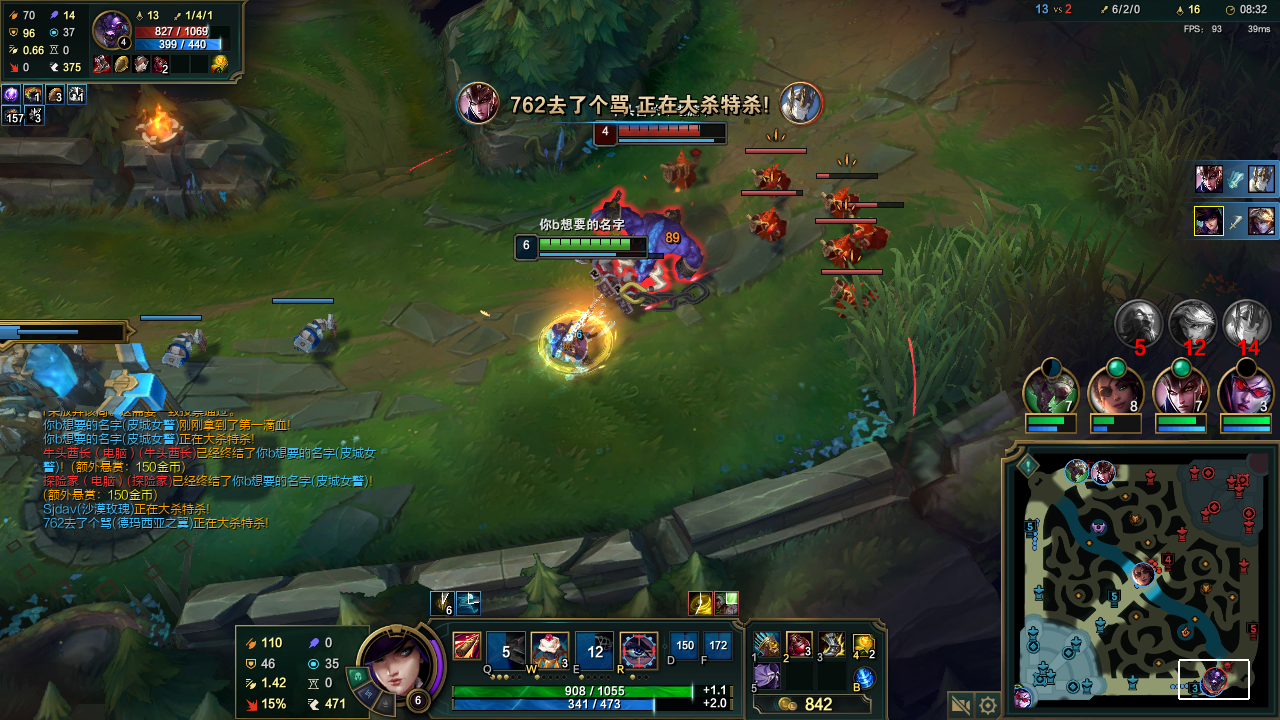DFXB: (821, 181, 862, 215), (662, 154, 702, 187), (834, 283, 872, 317), (751, 209, 785, 242), (758, 165, 795, 191), (825, 233, 855, 265), (858, 220, 886, 249)
DFYX: (609, 124, 703, 138)
WFXB: (299, 315, 340, 347), (166, 332, 206, 360)
